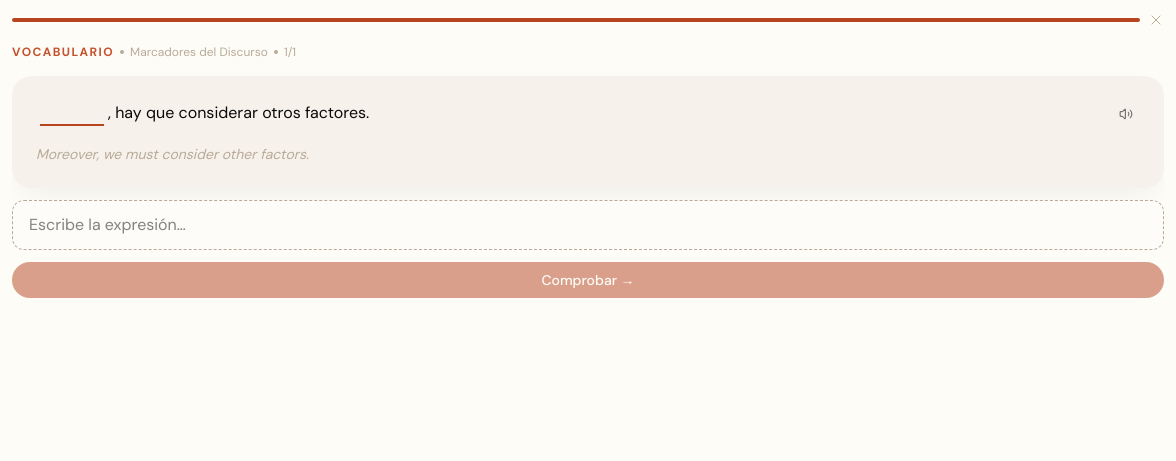
Test: VocabSession › shows accent_error feedback and hides input
// Type without accent: 'ademas' instead of 'además'
Type "ademas" into the field with placeholder "Escribe la expresión…".
click(588, 225); type("ademas")  # box [29,213,1147,237]
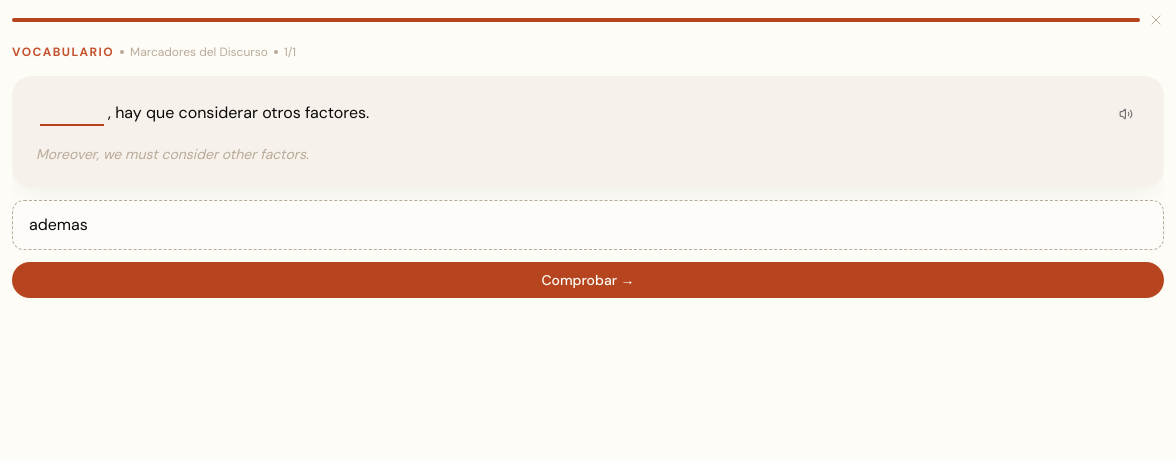
Click the button "Comprobar →".
click(588, 280)  # box [12,262,1164,298]
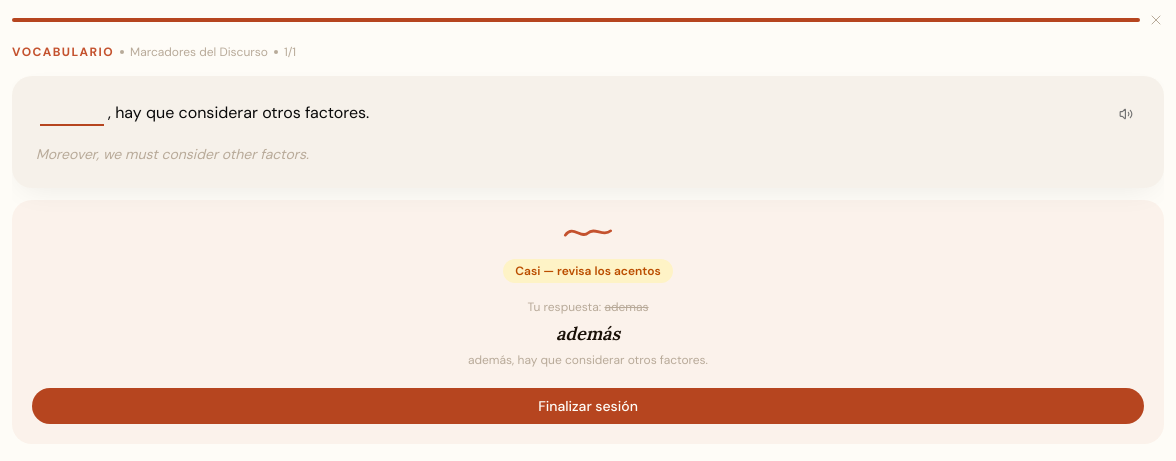
expect the field with placeholder "Escribe la expresión" is not shown: met
expect the text "Casi — revisa los acentos" is shown: met, box [503,259,673,283]
